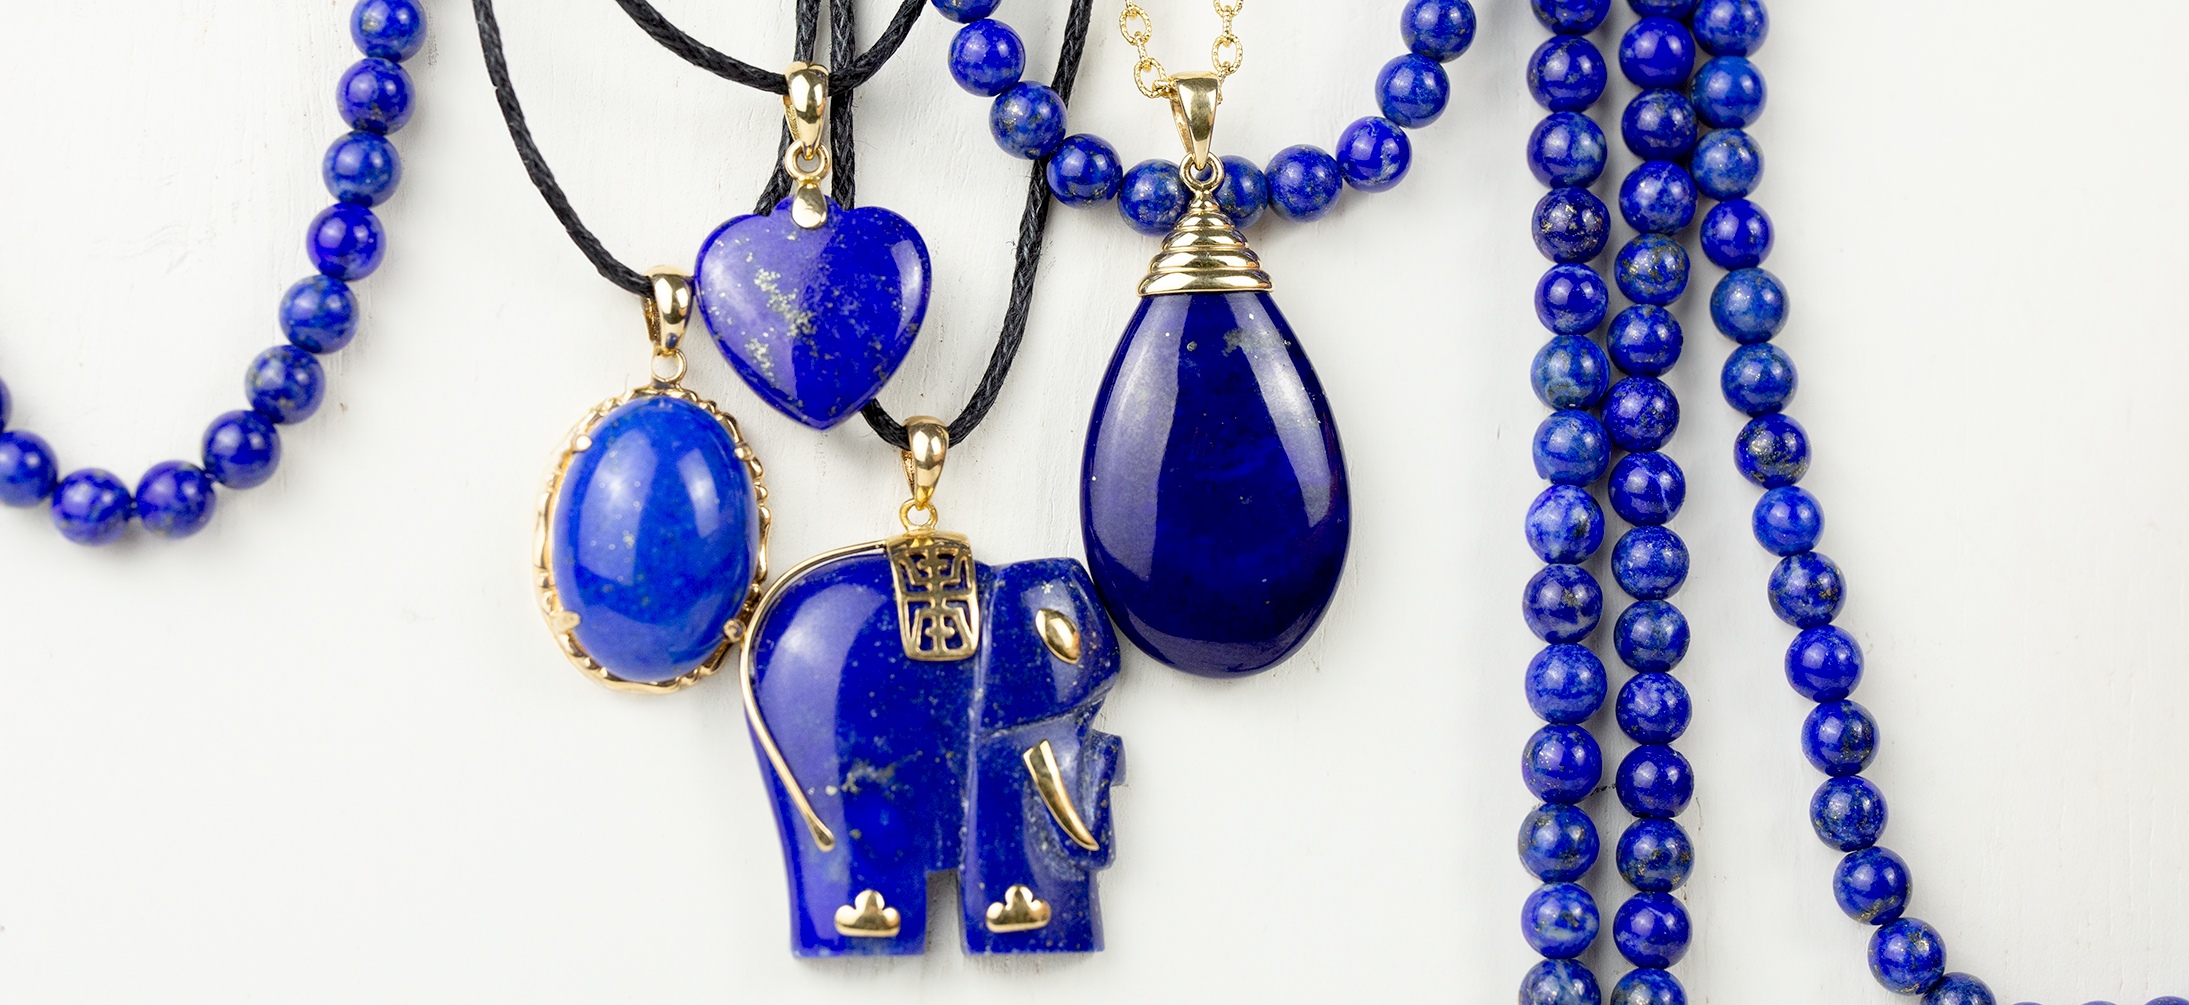Lapis_Lazuli: (743, 542, 1128, 962), (1085, 296, 1363, 684), (550, 394, 766, 695), (699, 201, 935, 430)
